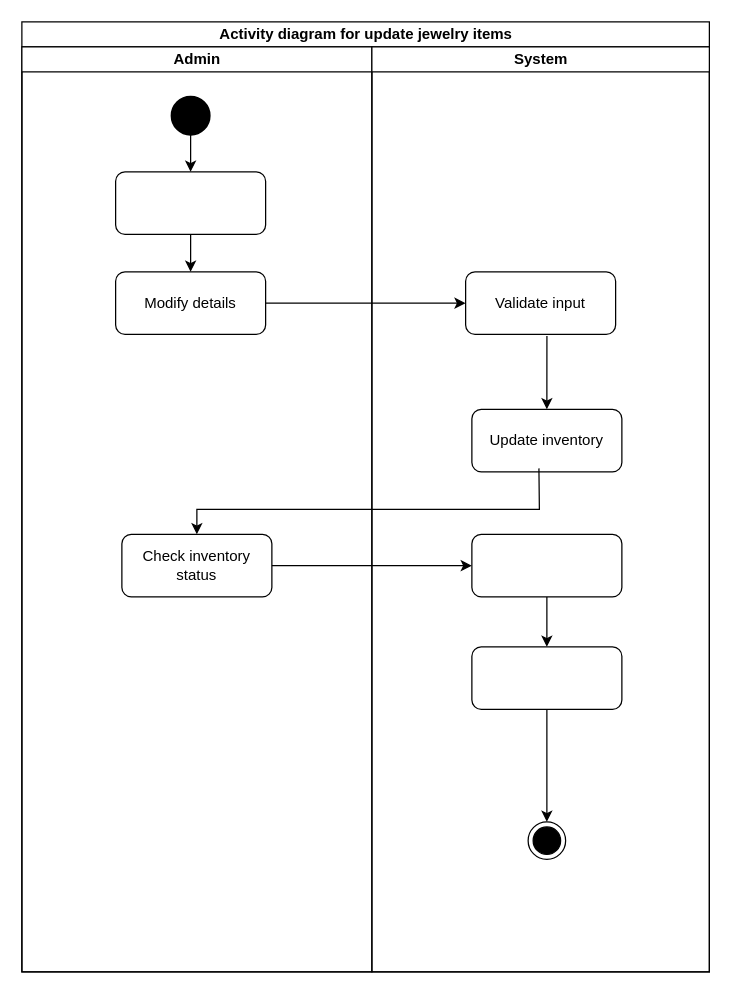
The diagram is 731 pixels wide and 994 high, and some of its shapes have lost their labels. Here are the shapes that lost their labels. From the top down, the centre of each, then its label:
the point at 190,202: Select item to update
the point at 546,565: Retrieve inventory data
the point at 546,677: Display item details
